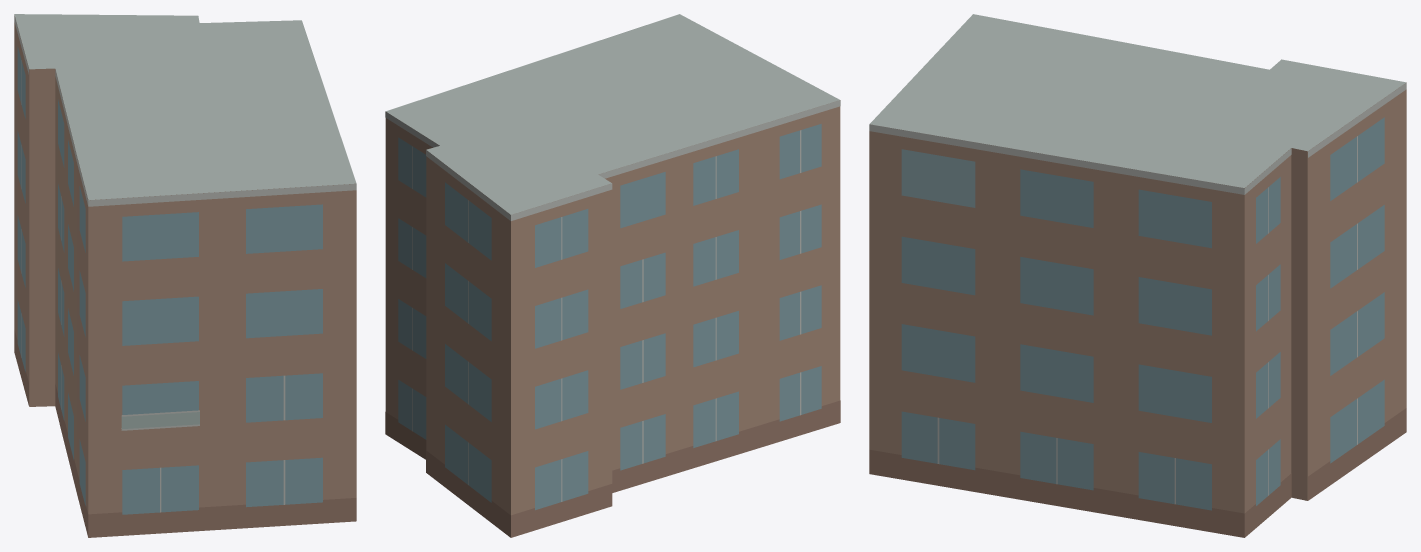
The model's file is survey-upis-32511727.glb.
3 views of the same model, side by side, from view 1: azimuth 30°, elevation 25°; view 2: azimuth 150°, elevation 25°; view 3: azimuth 270°, elevation 25° (orthographic). The views are drawn at different scales.
Visible parts, largest first — view 1: survey-upis-32511727.tmp; view 2: survey-upis-32511727.tmp; view 3: survey-upis-32511727.tmp.
Part boxes in pixels (x1,y1,x2,y2): survey-upis-32511727.tmp: (14,14,356,537); survey-upis-32511727.tmp: (385,14,840,537); survey-upis-32511727.tmp: (869,14,1406,537).
Size of the model in its own units: 13.36 by 12.5 by 17.41.
